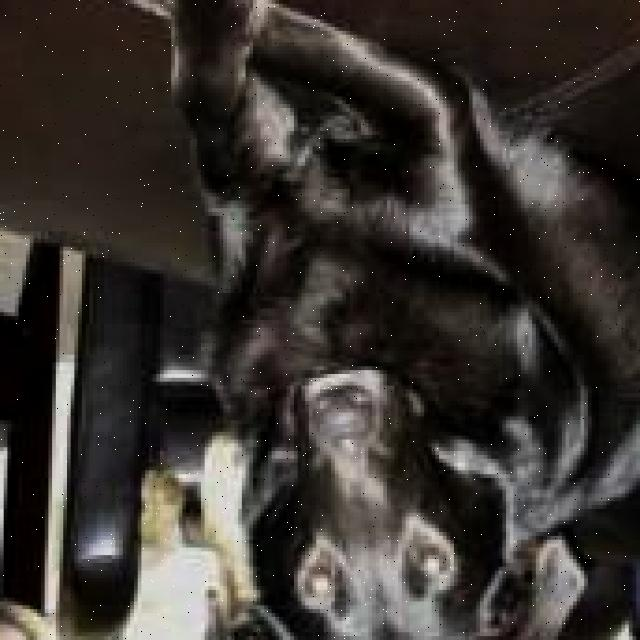Dog: (190, 351, 603, 640)
